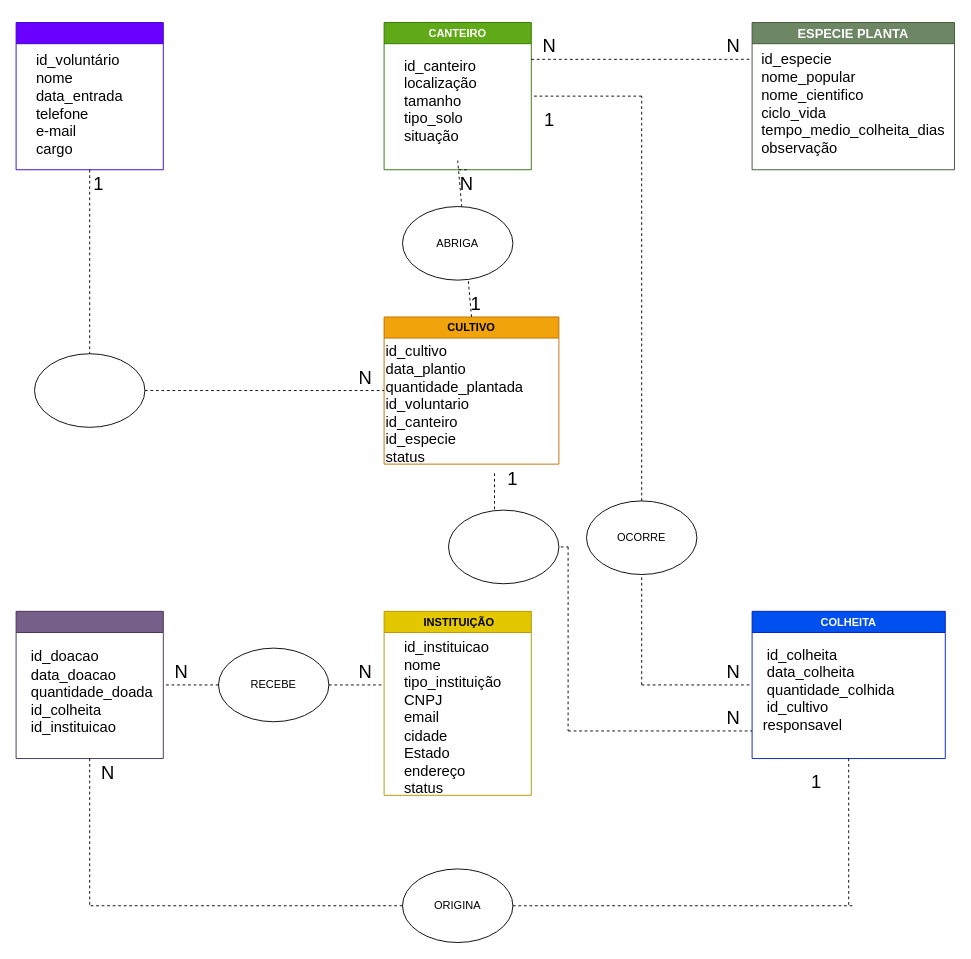
The diagram is 971 pixels wide and 959 high, and some of its shapes have lost their labels. The shapes that lost their labels are listed below. From the top down, each one's box as (x1, y1, x2, y2) in pixels, then its label:
(15, 22, 163, 170): VOLUNÁRIO
(34, 353, 145, 427): REALIZA
(448, 509, 559, 584): GERA
(15, 610, 163, 759): DOAÇÃO
